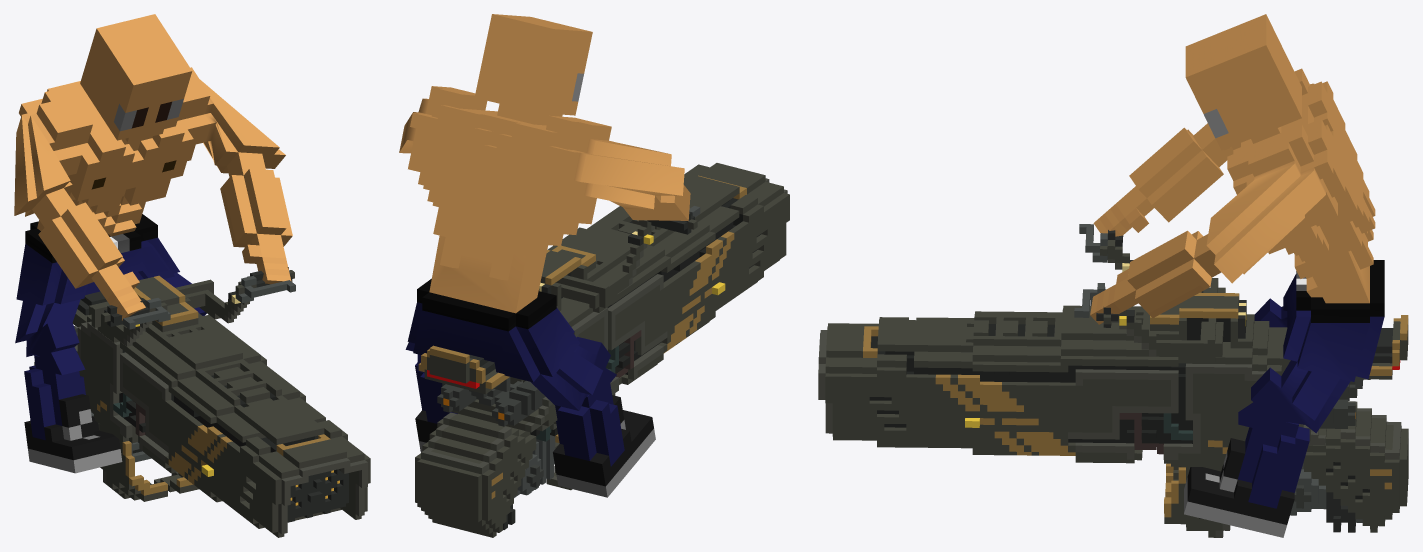
Rendered from OnGunBike.obj.
The picture shows the model from 3 angles, left to right: view 1: azimuth 30°, elevation 25°; view 2: azimuth 150°, elevation 25°; view 3: azimuth 270°, elevation 25°; orthographic projection. The views are drawn at different scales.
Visible parts, largest first — view 1: Character-1.001, GunBike; view 2: Character-1.001, GunBike; view 3: GunBike, Character-1.001.
Boxes of the visible parts, box(x1,y1,x2,y2) form: Character-1.001: box(14, 14, 292, 473); GunBike: box(34, 267, 370, 537); Character-1.001: box(399, 14, 690, 497); GunBike: box(415, 163, 789, 537); GunBike: box(818, 224, 1408, 537); Character-1.001: box(1090, 14, 1384, 537).
Size of the model in its own units: 4.57 by 7.37 by 8.03.
Materials: 2 (2 with a texture image).
